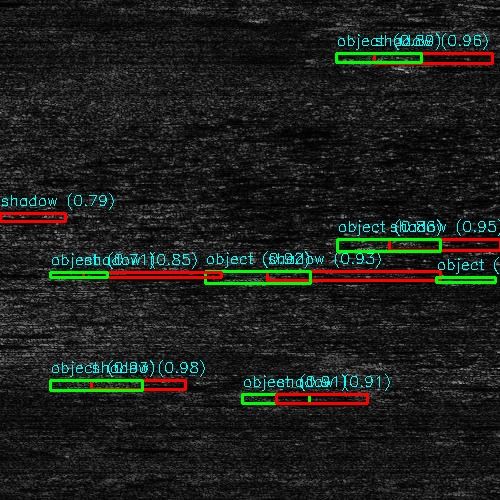rock: (328, 239, 453, 252), (328, 53, 443, 62), (46, 381, 151, 390), (208, 273, 313, 282), (251, 394, 314, 403), (446, 277, 500, 282)
shadow: (391, 239, 500, 252), (0, 210, 81, 223), (261, 273, 368, 282), (386, 53, 477, 62), (99, 381, 185, 390), (283, 394, 366, 403), (478, 277, 500, 282)
